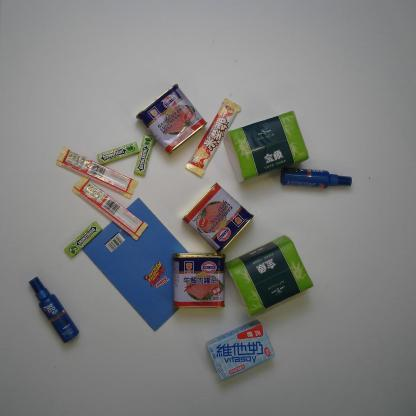Canned Food: (180, 180, 257, 258), (133, 80, 209, 158), (168, 250, 230, 311)
Chocolate: (70, 174, 150, 242), (183, 96, 243, 179), (54, 146, 140, 200)
Gum: (63, 219, 104, 260), (96, 140, 140, 166), (133, 133, 156, 177)
Milk: (204, 317, 278, 384)
Personal Hygiene: (25, 275, 80, 346), (276, 163, 354, 192)
Stationery: (78, 196, 192, 334)
Tissue: (220, 233, 316, 319), (222, 109, 312, 185)
